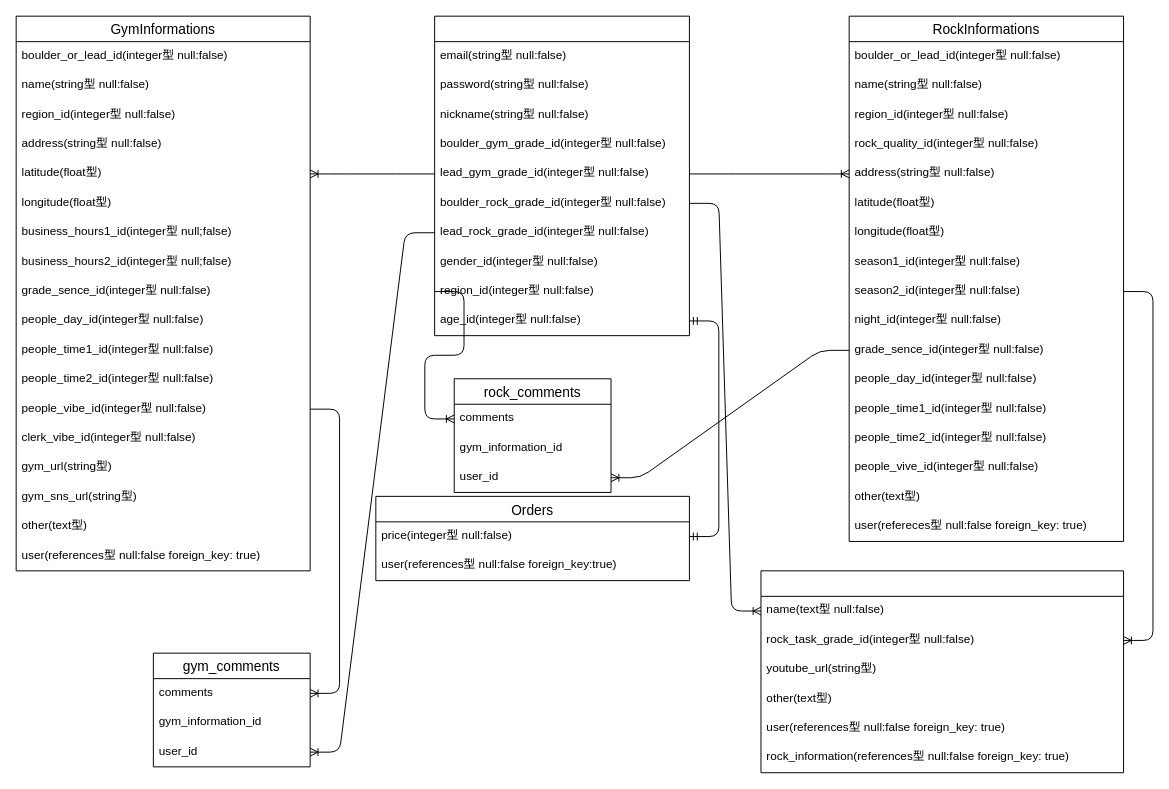
Some shapes in this 1169 by 789 pixel diagram are drawn without their labels. The box of each missing label's shape, as (x1, y1, x2, y2) in pixels:
RockTasks: (760, 570, 1124, 773)
users: (434, 15, 689, 336)
